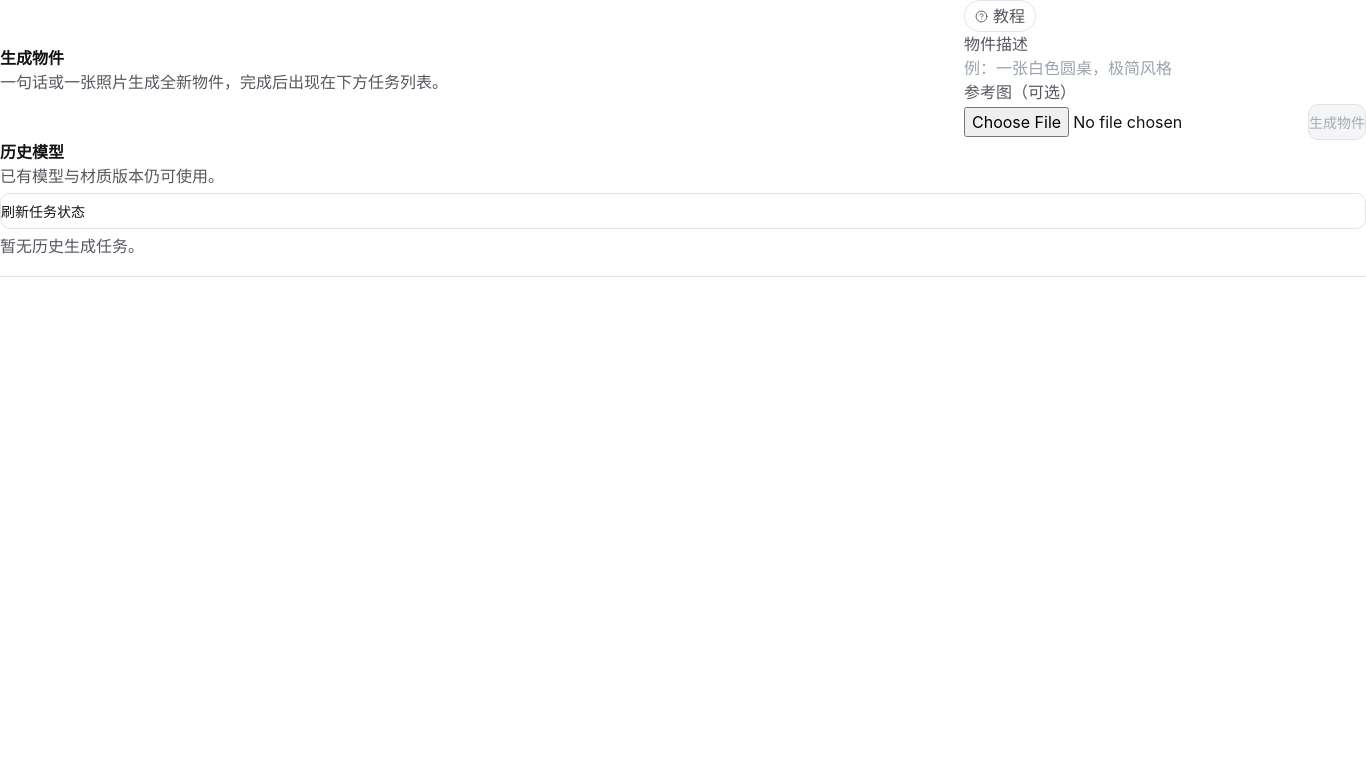
Test case: Lux3D (Aholo) generation entry › teaches the three-step flow via the floating guide card next to the entry
The image size is (1366, 768).
Click the button with aria-label "生成教程": (1000, 16) [964, 0, 1036, 32]
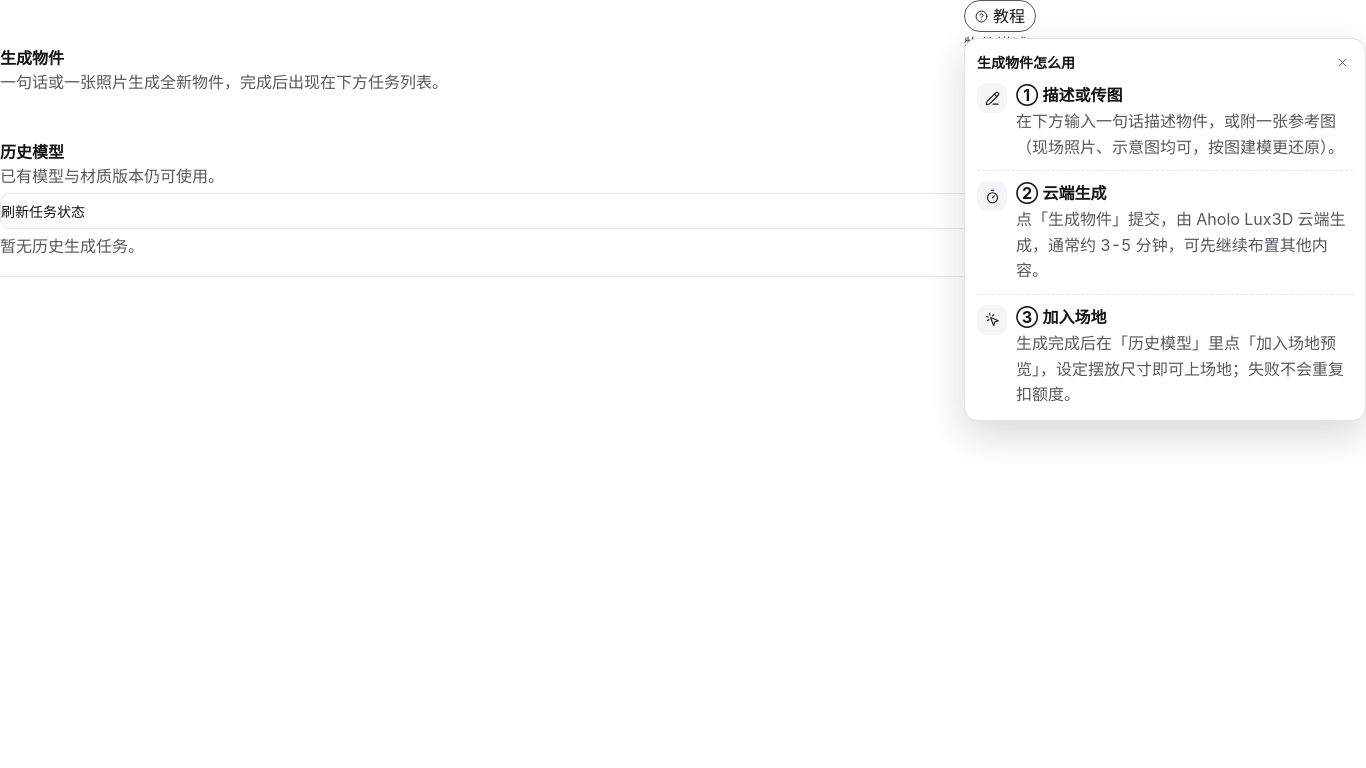
Check: the dialog named "生成教程" shows "加入场地预览", box [1016, 333, 1344, 404]
Check: the dialog named "生成教程" shows "3-5 分钟", box [1016, 209, 1346, 280]
Check: the dialog named "生成教程" shows "Aholo Lux3D", box [1016, 209, 1346, 280]
